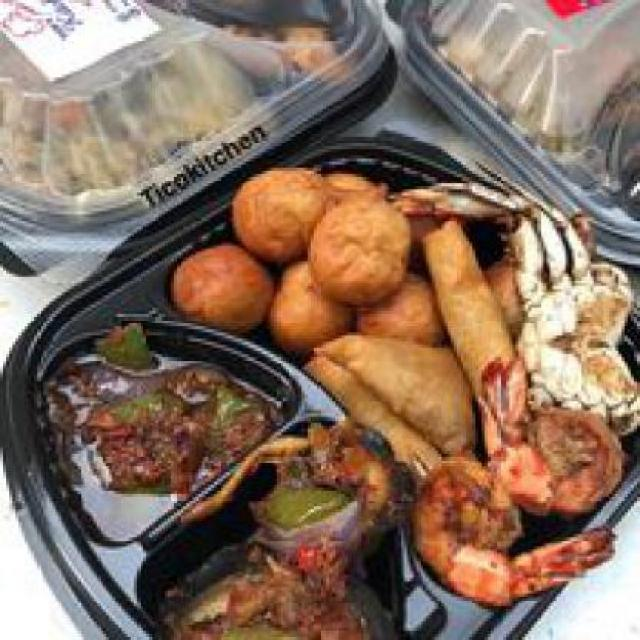samosa: (296, 317, 476, 472)
spring rolls: (426, 220, 526, 394)
